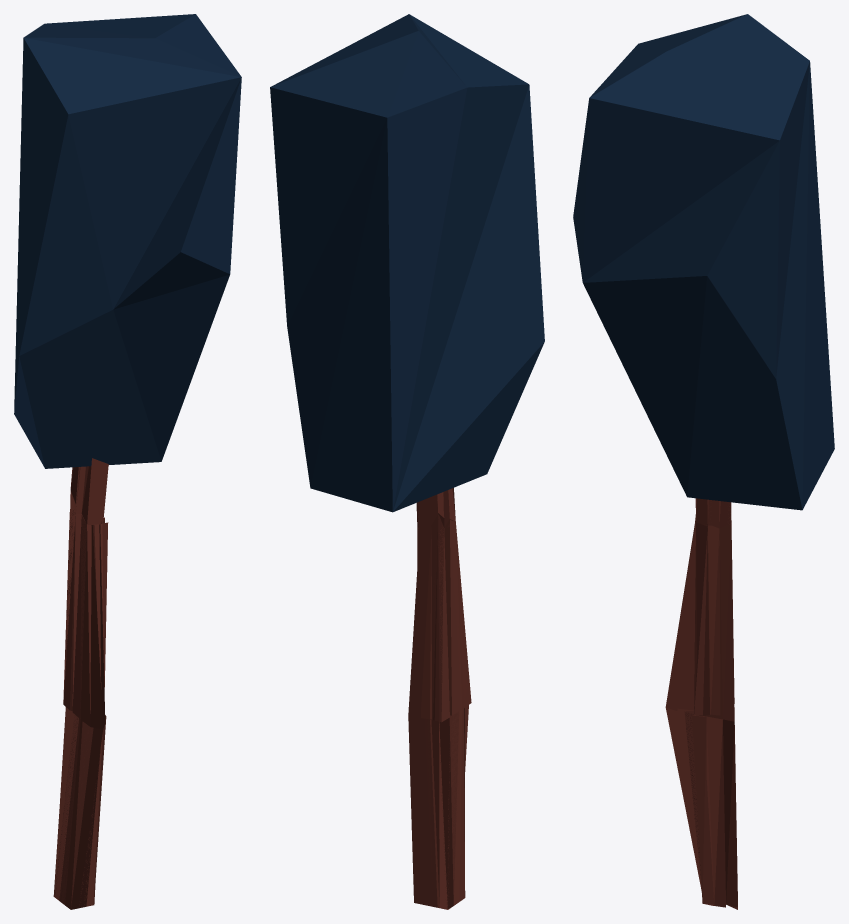
Rendered from island2_tree2.obj.
The picture shows the model from 3 angles, left to right: view 1: azimuth 30°, elevation 25°; view 2: azimuth 150°, elevation 25°; view 3: azimuth 270°, elevation 25°; orthographic projection. The views are drawn at different scales.
Visible parts, largest first — view 1: Cube.003_Cube.014, Cube.000_Cube.013; view 2: Cube.003_Cube.014, Cube.000_Cube.013; view 3: Cube.003_Cube.014, Cube.000_Cube.013.
Part boxes in pixels (x1=…): Cube.003_Cube.014: x1=14, y1=14, x2=241, y2=468; Cube.000_Cube.013: x1=53, y1=458, x2=108, y2=909; Cube.003_Cube.014: x1=270, y1=14, x2=544, y2=512; Cube.000_Cube.013: x1=408, y1=488, x2=471, y2=909; Cube.003_Cube.014: x1=573, y1=14, x2=834, y2=510; Cube.000_Cube.013: x1=665, y1=498, x2=737, y2=909.
Size of the model in its own units: 3.27 by 11.74 by 3.19.
